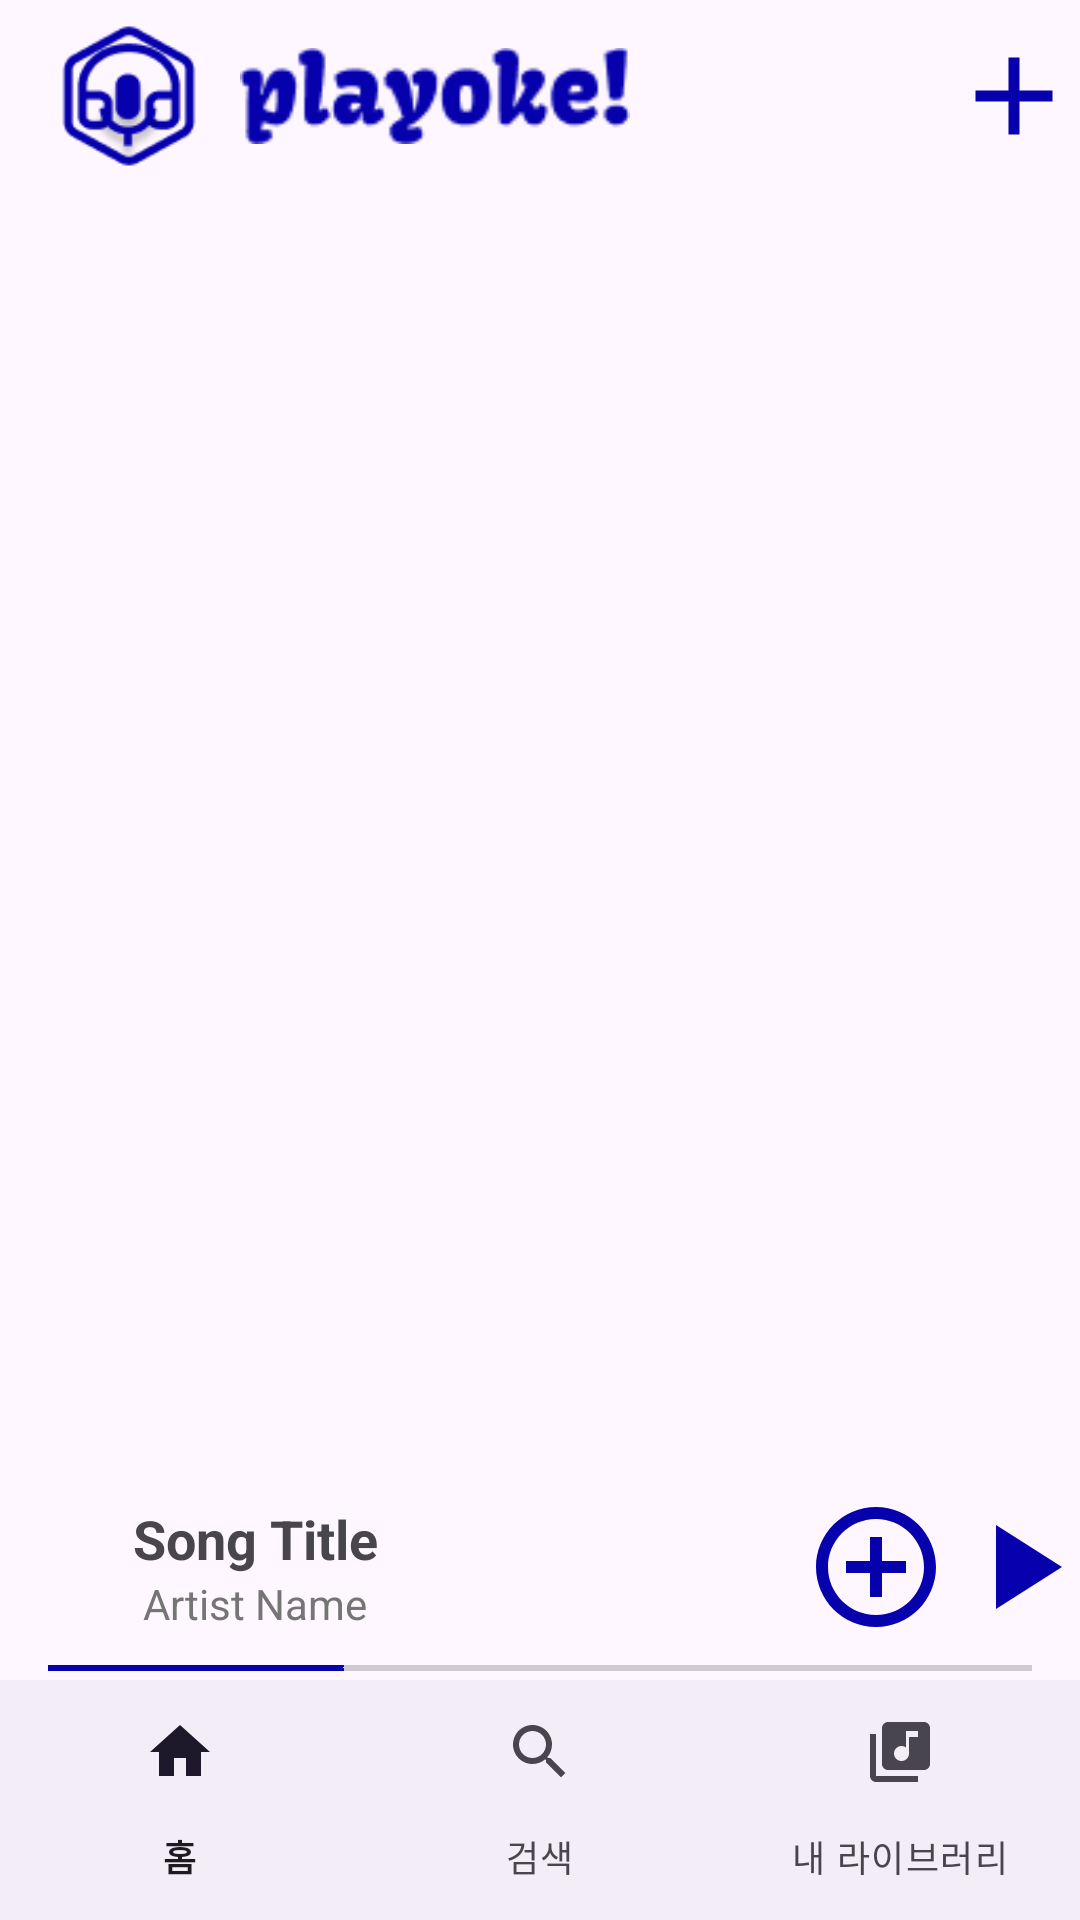

Where to tap for icons on this 1080px x 1920px app screen, as (x=x, y=y):
add: (x=1014, y=96)
add circle: (x=876, y=1567)
play arrow: (x=1029, y=1567)
